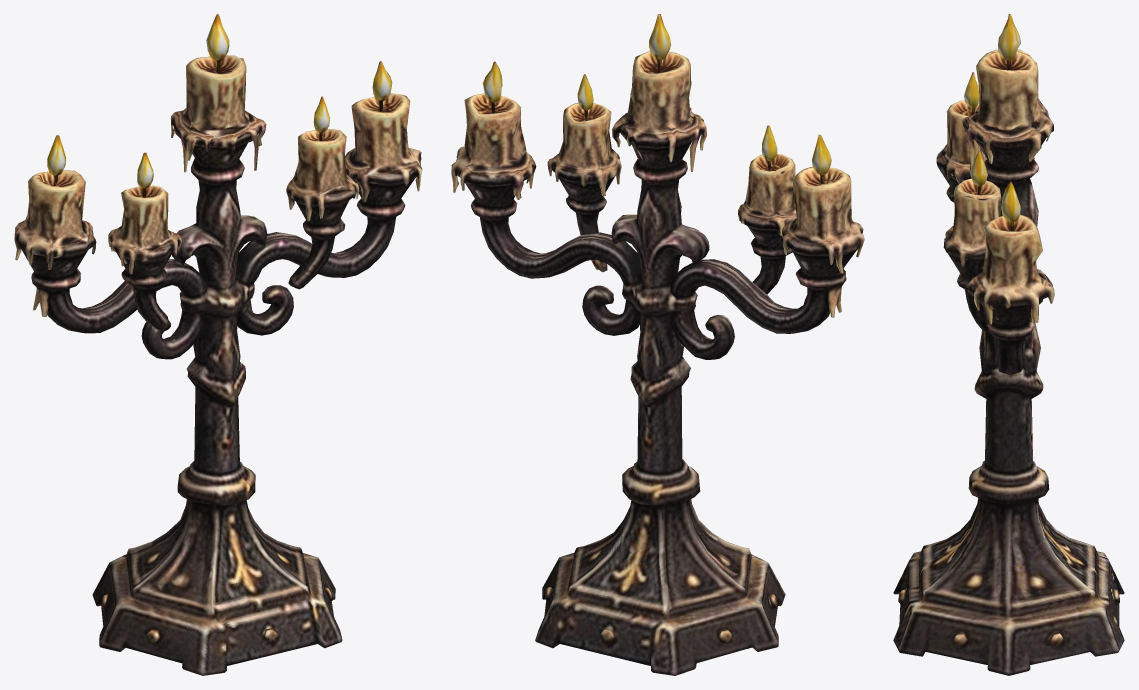
Rendered from kandelabr.glb.
3 views of the same model, side by side, from view 1: azimuth 30°, elevation 25°; view 2: azimuth 150°, elevation 25°; view 3: azimuth 270°, elevation 25° (orthographic).
Visible parts, largest first — view 1: Mesh_0; view 2: Mesh_0; view 3: Mesh_0.
Boxes of the visible parts, left/top/right/bottom form: Mesh_0: left=14, top=14, right=422, bottom=675; Mesh_0: left=451, top=14, right=864, bottom=675; Mesh_0: left=893, top=14, right=1124, bottom=675.
Size of the model in its own units: 0.6602 by 0.9512 by 0.3296.
Materials: 1 (1 with a texture image).
